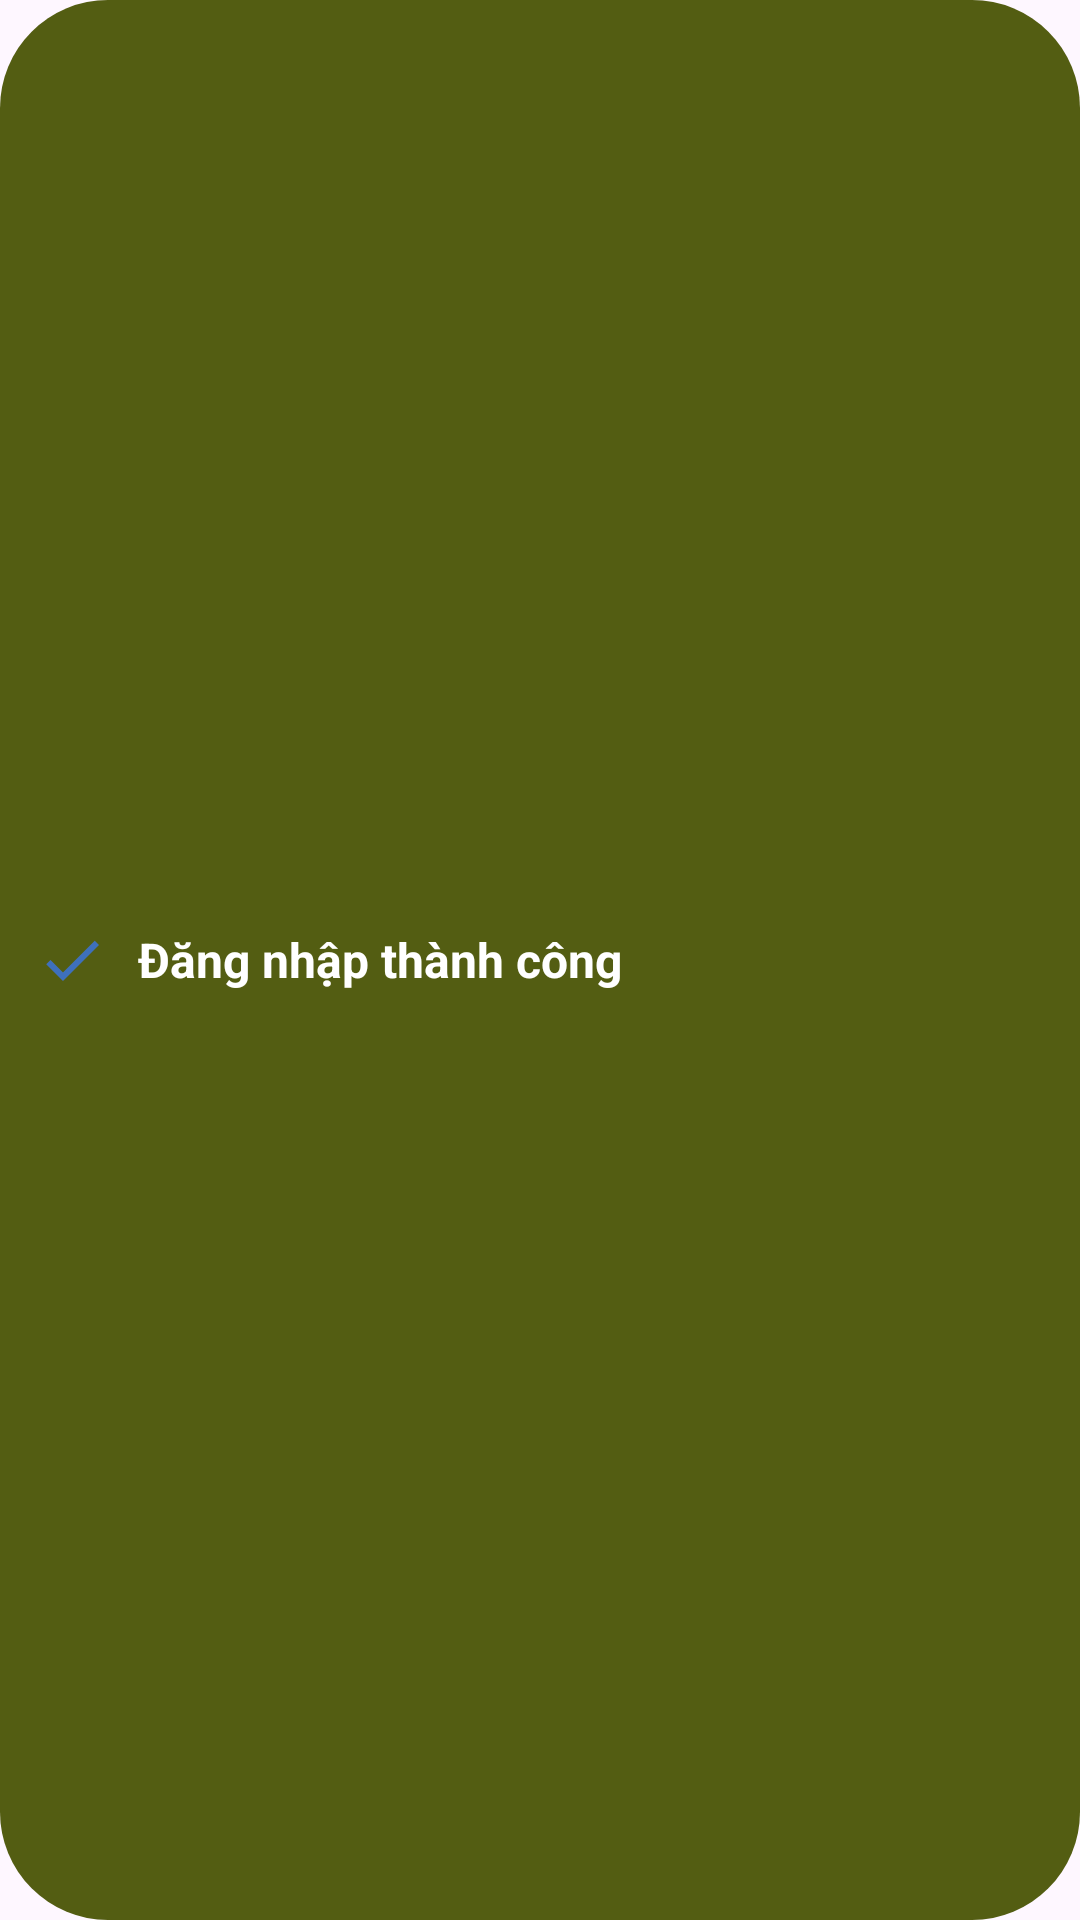

Screen size 1080px x 1920px. Icon name, then its box in pixels as box(x1, y1, x2, y2):
check: box(46, 941, 99, 981)
